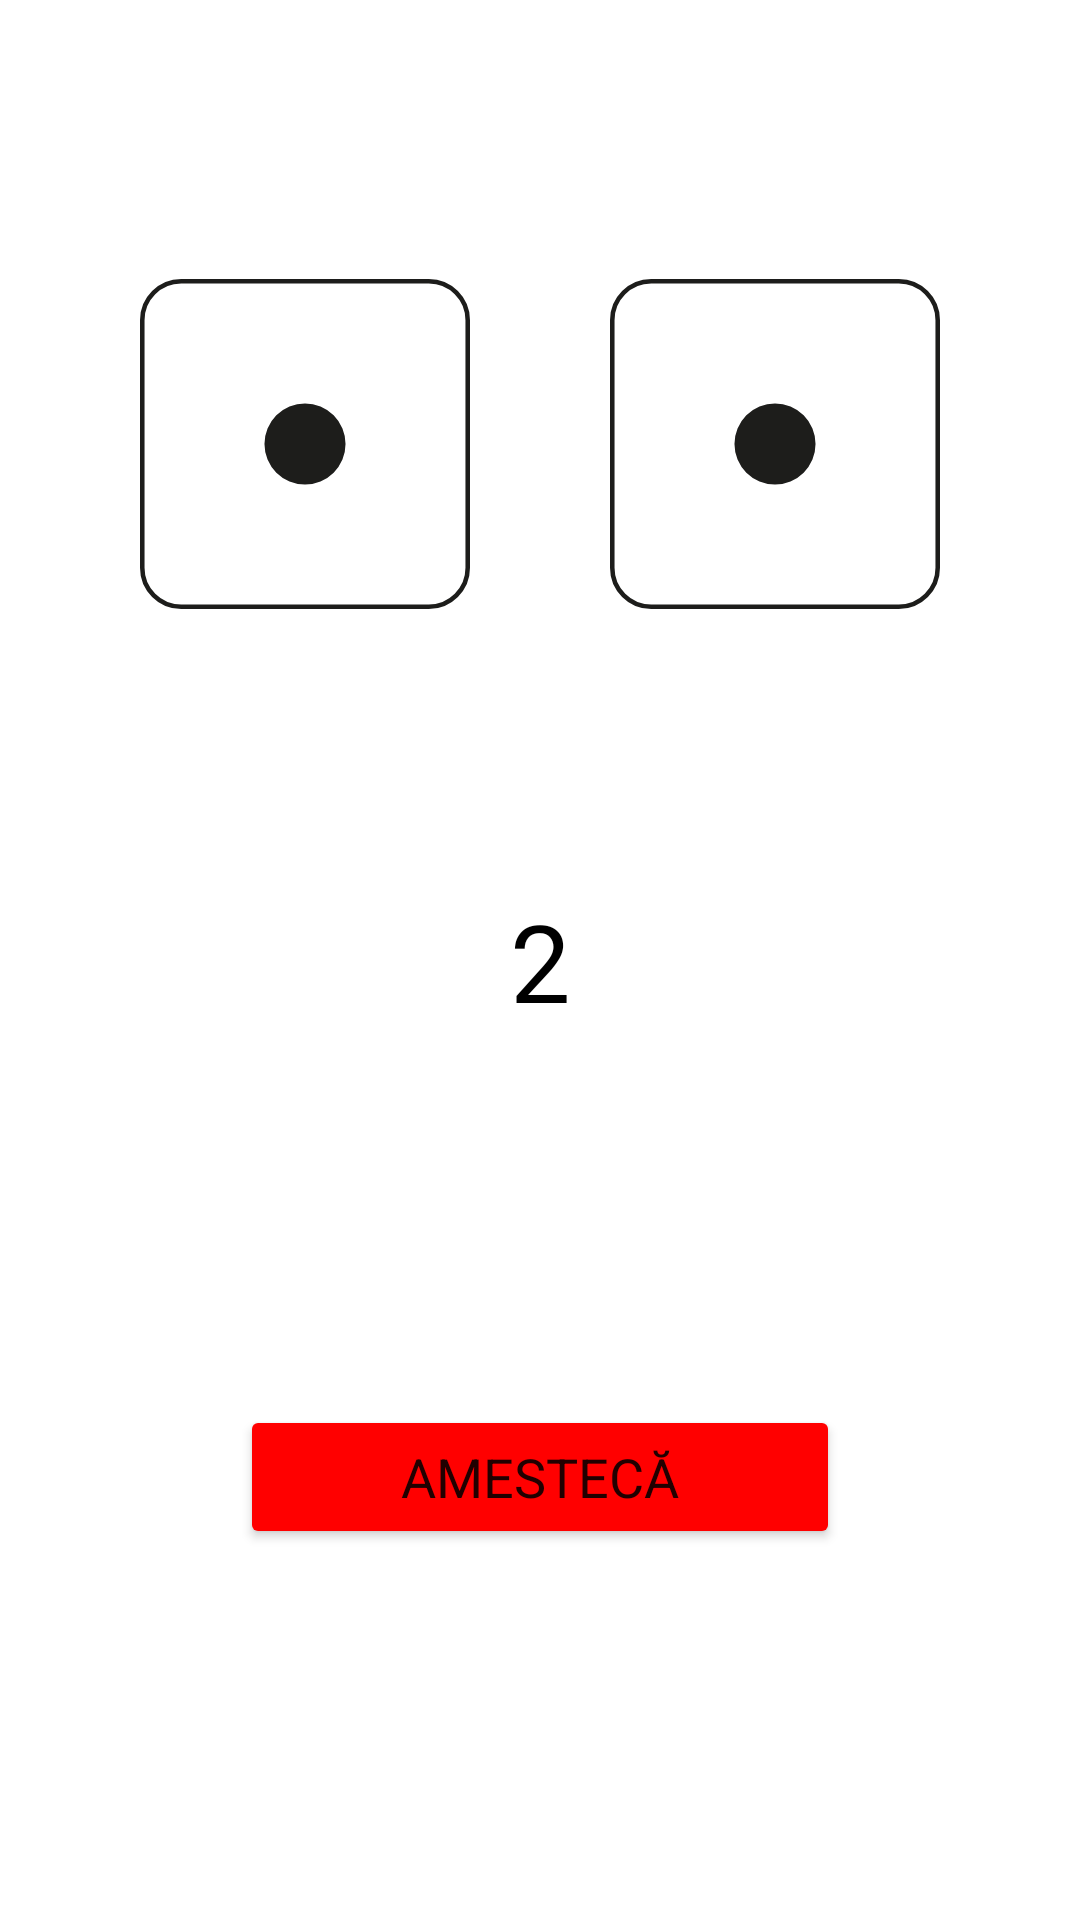

Icon click points for this 1080×1920 phone screenshot, format (x=x, y=y):
dice: (x=305, y=444), (x=775, y=444)
